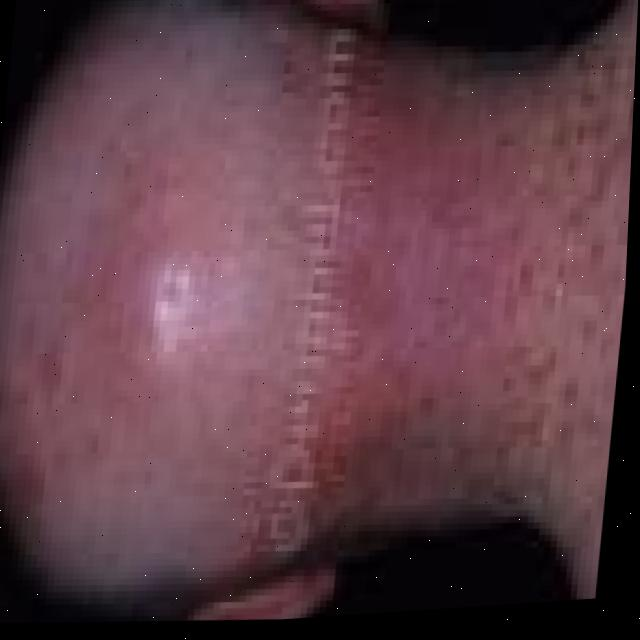Melasma: (282, 38, 530, 562)
